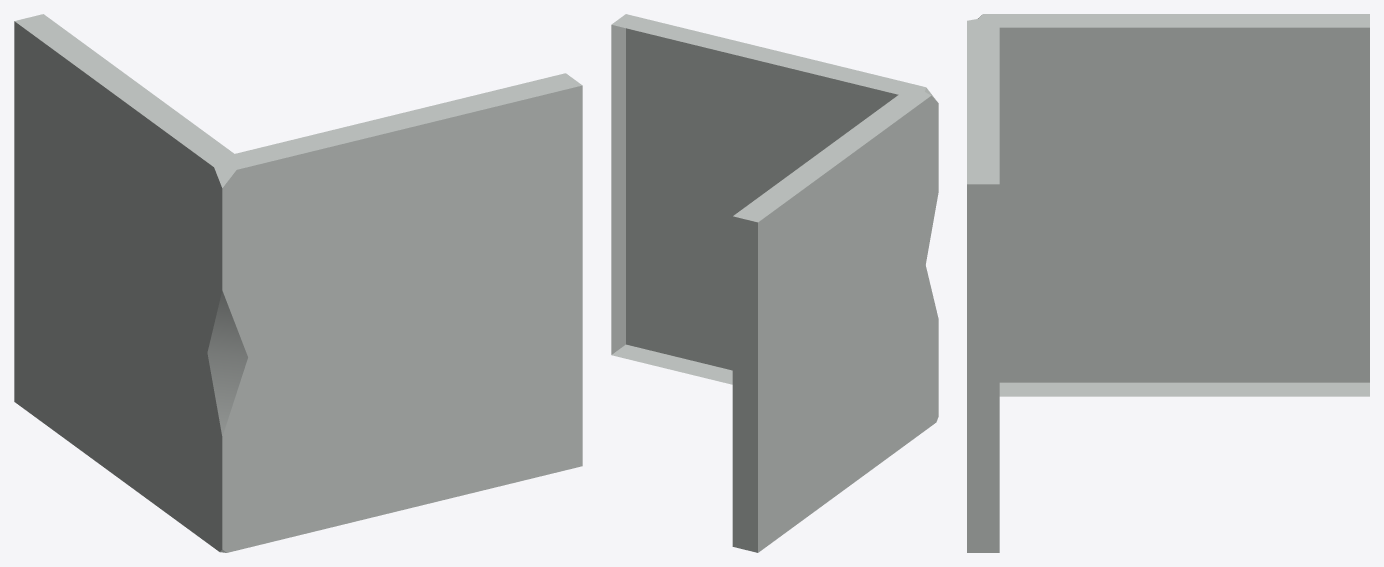
File: SM_Env_Wall_31.fbx
The picture shows the model from 3 angles, left to right: view 1: azimuth 30°, elevation 25°; view 2: azimuth 150°, elevation 25°; view 3: azimuth 270°, elevation 25°; orthographic projection. The views are drawn at different scales.
Visible parts, largest first — view 1: SM_Env_Wall_31; view 2: SM_Env_Wall_31; view 3: SM_Env_Wall_31.
Part boxes in pixels (left/top/right/bottom): SM_Env_Wall_31: left=14, top=14, right=582, bottom=552; SM_Env_Wall_31: left=611, top=14, right=938, bottom=552; SM_Env_Wall_31: left=967, top=14, right=1369, bottom=552.
Bounding box in the file's own units: 141 × 142 × 141.
Materials: 1 (1 with a texture image).
